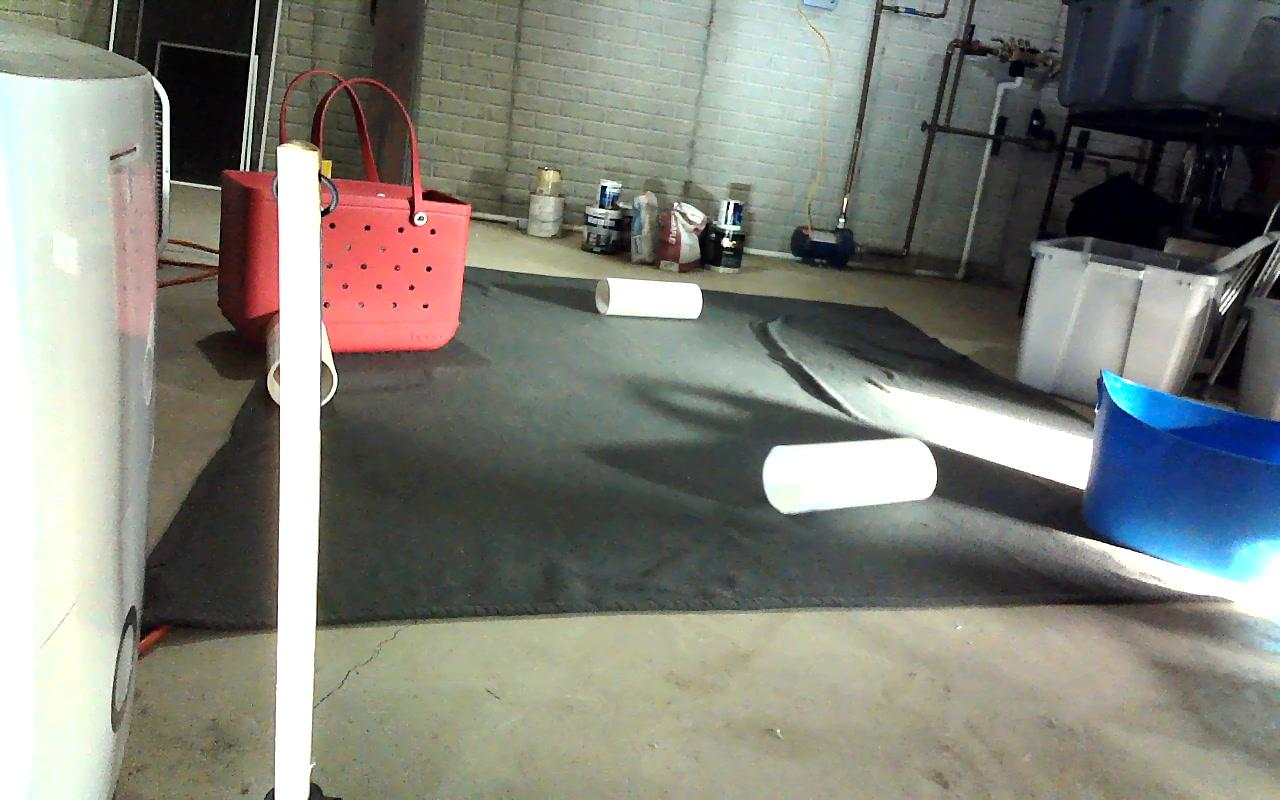coral: (765, 438, 937, 515), (266, 312, 337, 409), (595, 275, 702, 320)
